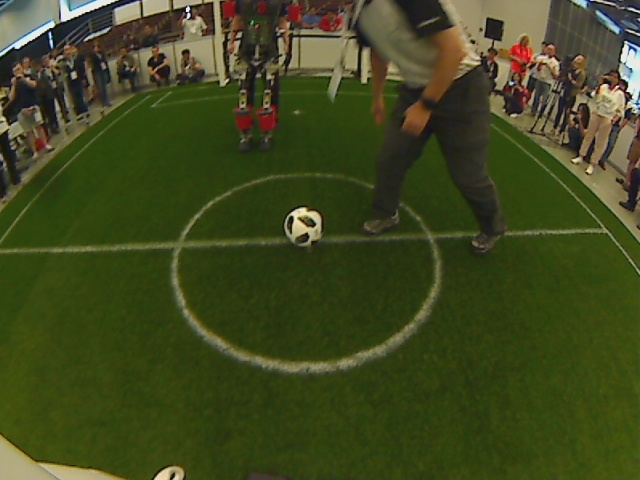ball: (281, 201, 327, 249)
